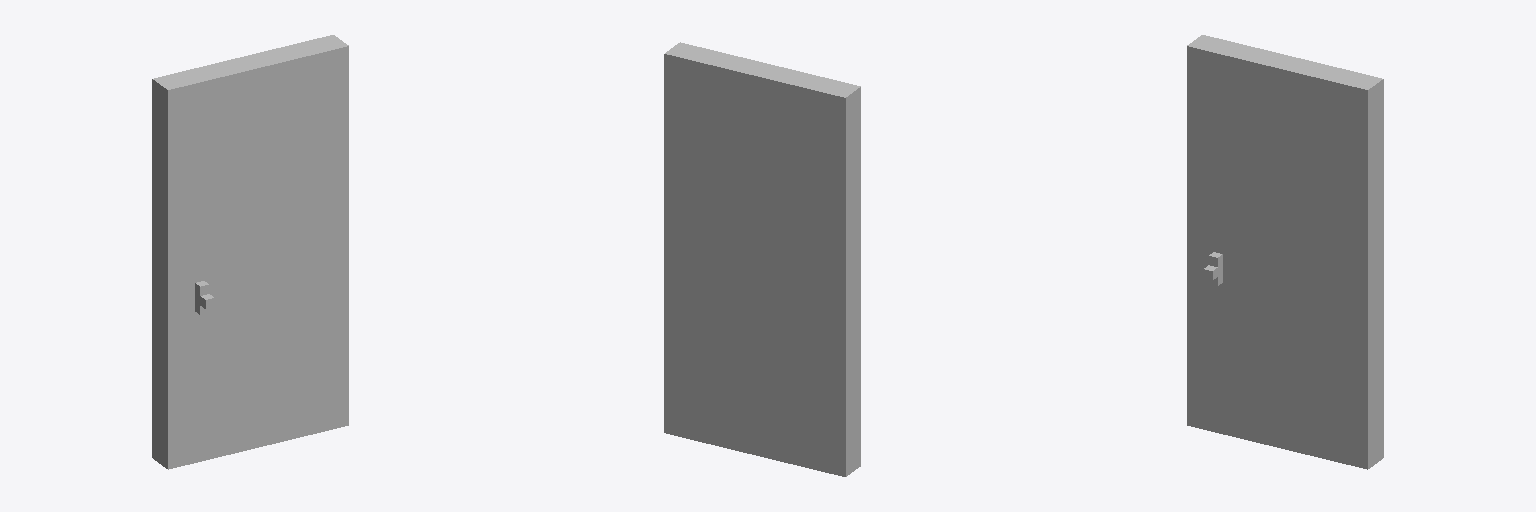
Rendered from door.obj.
3 renders of one model, left to right at view 1: azimuth 30°, elevation 25°; view 2: azimuth 150°, elevation 25°; view 3: azimuth 330°, elevation 25°, orthographic.
Bounding box in the file's own units: 20 × 40 × 5.